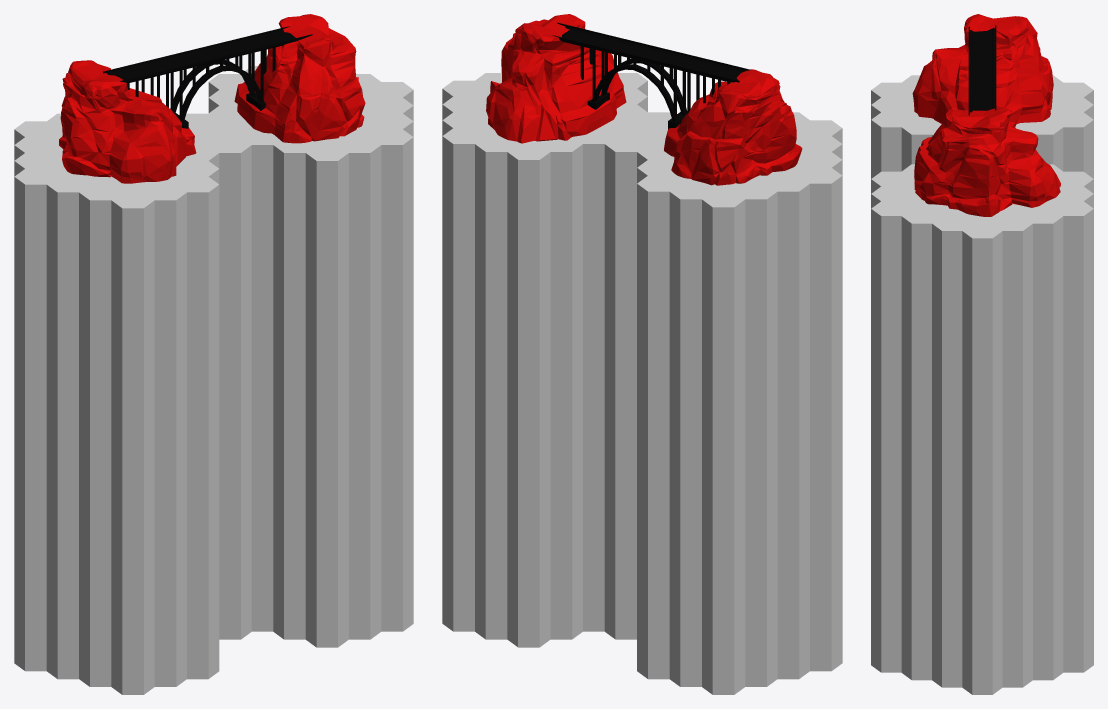
File: sightseein_AZ.fbx
3 views of the same model, side by side, from view 1: azimuth 30°, elevation 25°; view 2: azimuth 150°, elevation 25°; view 3: azimuth 270°, elevation 25° (orthographic). The views are drawn at different scales.
Visible parts, largest first — view 1: hexagon_01, sightseein_AZ; view 2: hexagon_01, sightseein_AZ; view 3: hexagon_01, sightseein_AZ.
Part boxes in pixels (x1,y1,x2,y2): hexagon_01: (14,66,413,694); sightseein_AZ: (59,14,365,183); hexagon_01: (442,73,842,694); sightseein_AZ: (486,14,802,185); hexagon_01: (871,75,1093,694); sightseein_AZ: (912,14,1060,216).
Bounding box in the file's own units: 2598 × 3659 × 1375.
